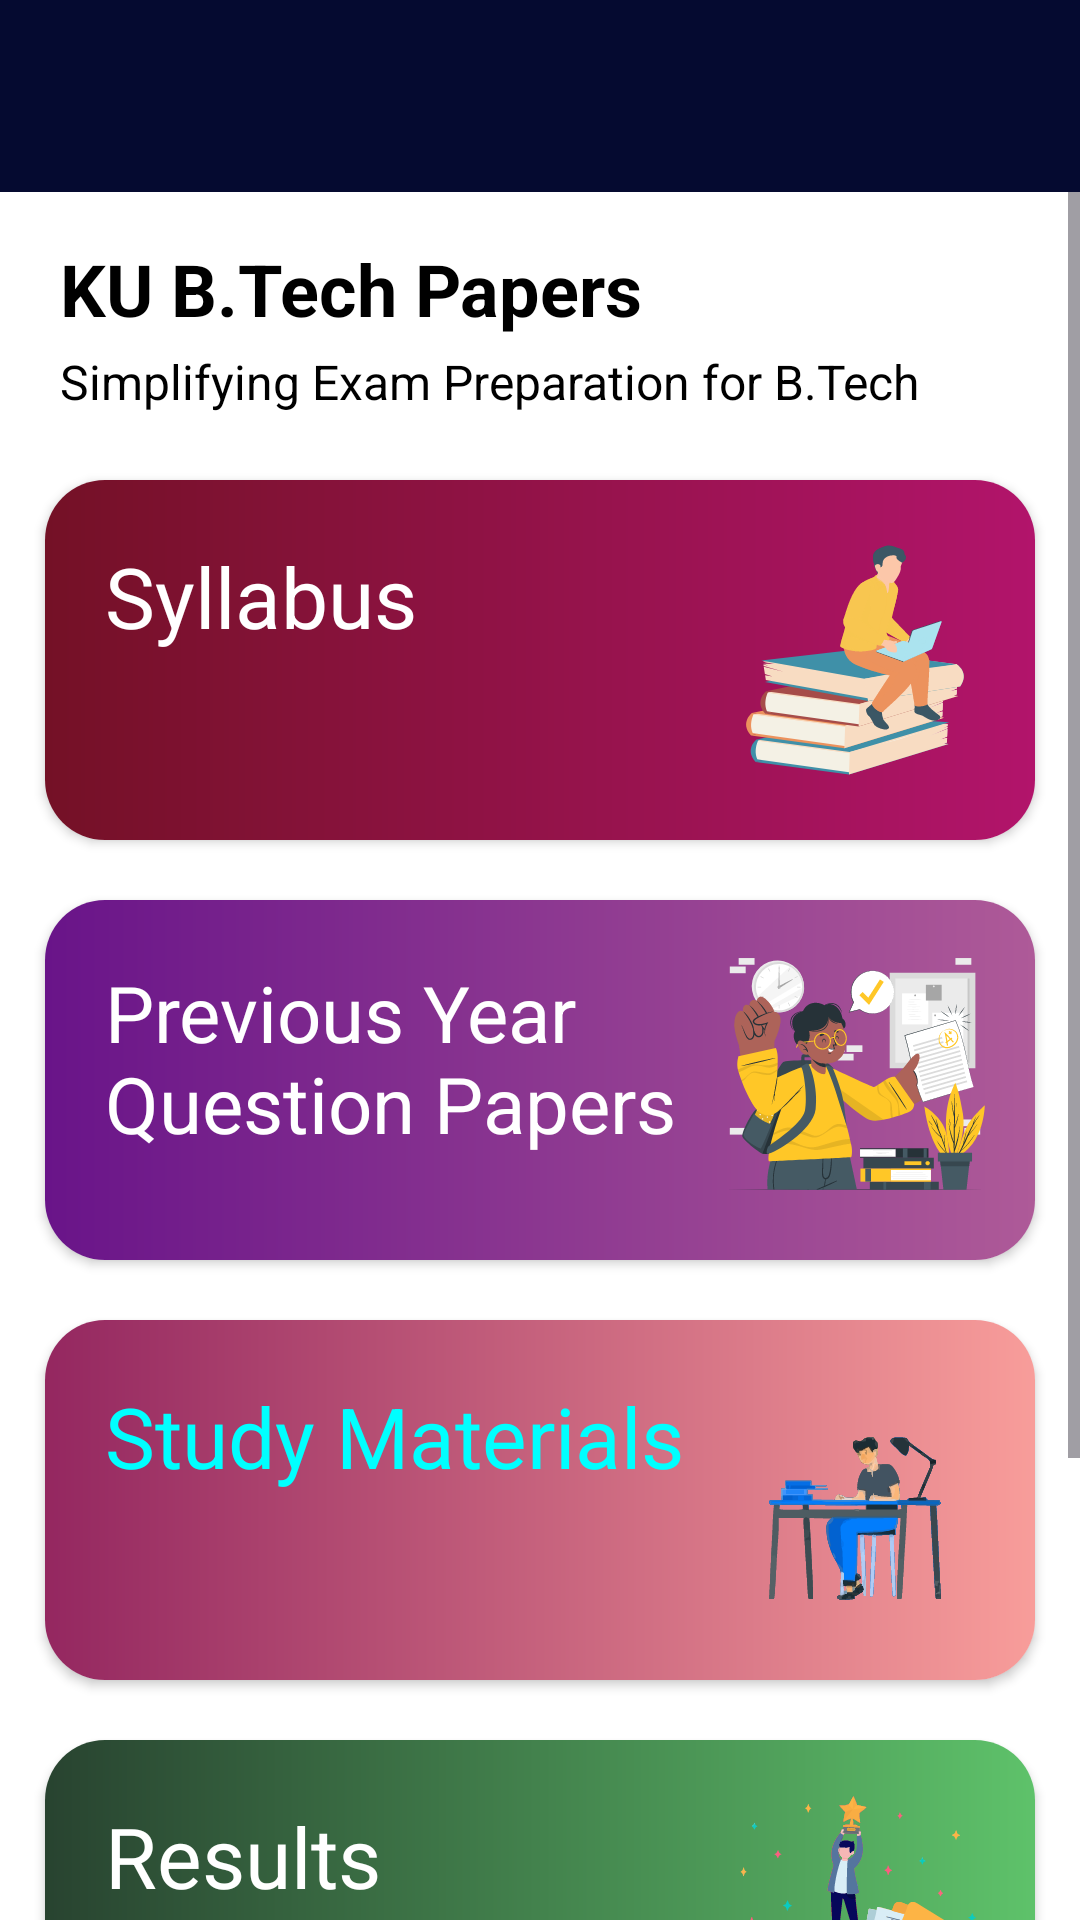

Where icons sit on this 1080px x 1920px app screen, as (x1, y1, x2, y2):
Pyq image: (729, 958, 985, 1190)
